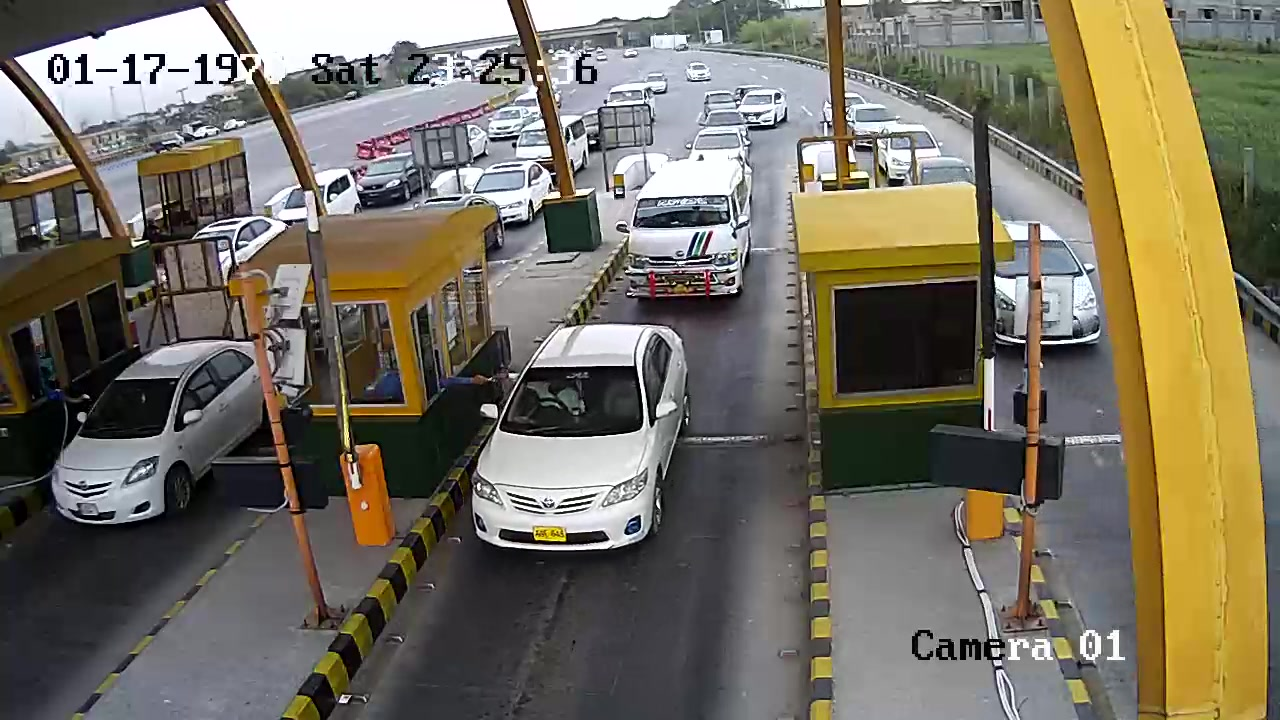F1: (452, 318, 714, 573)
